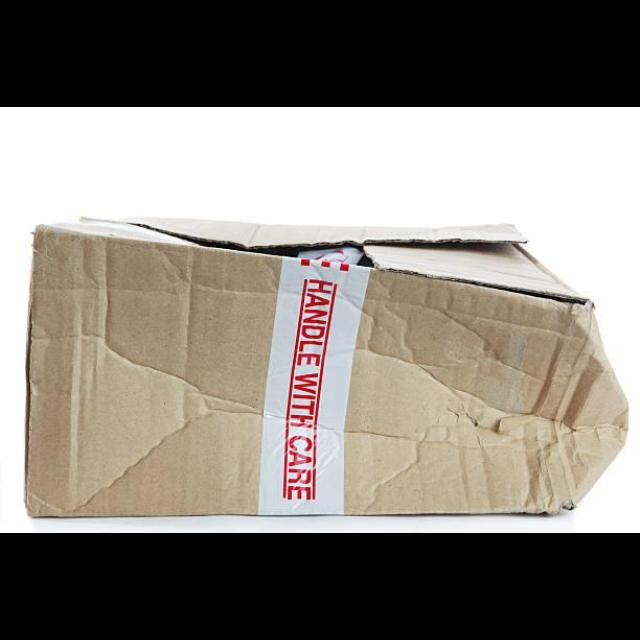papelão: (24, 218, 628, 520)
